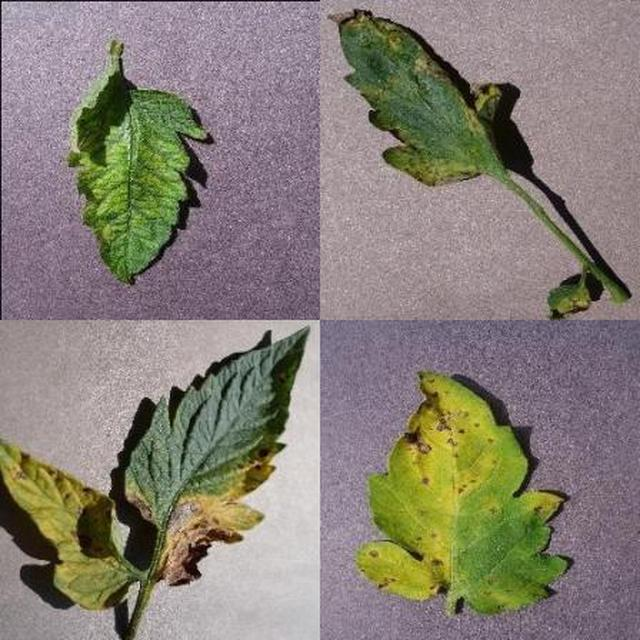Mosaic Virus Leaf: (191, 139, 640, 640)
